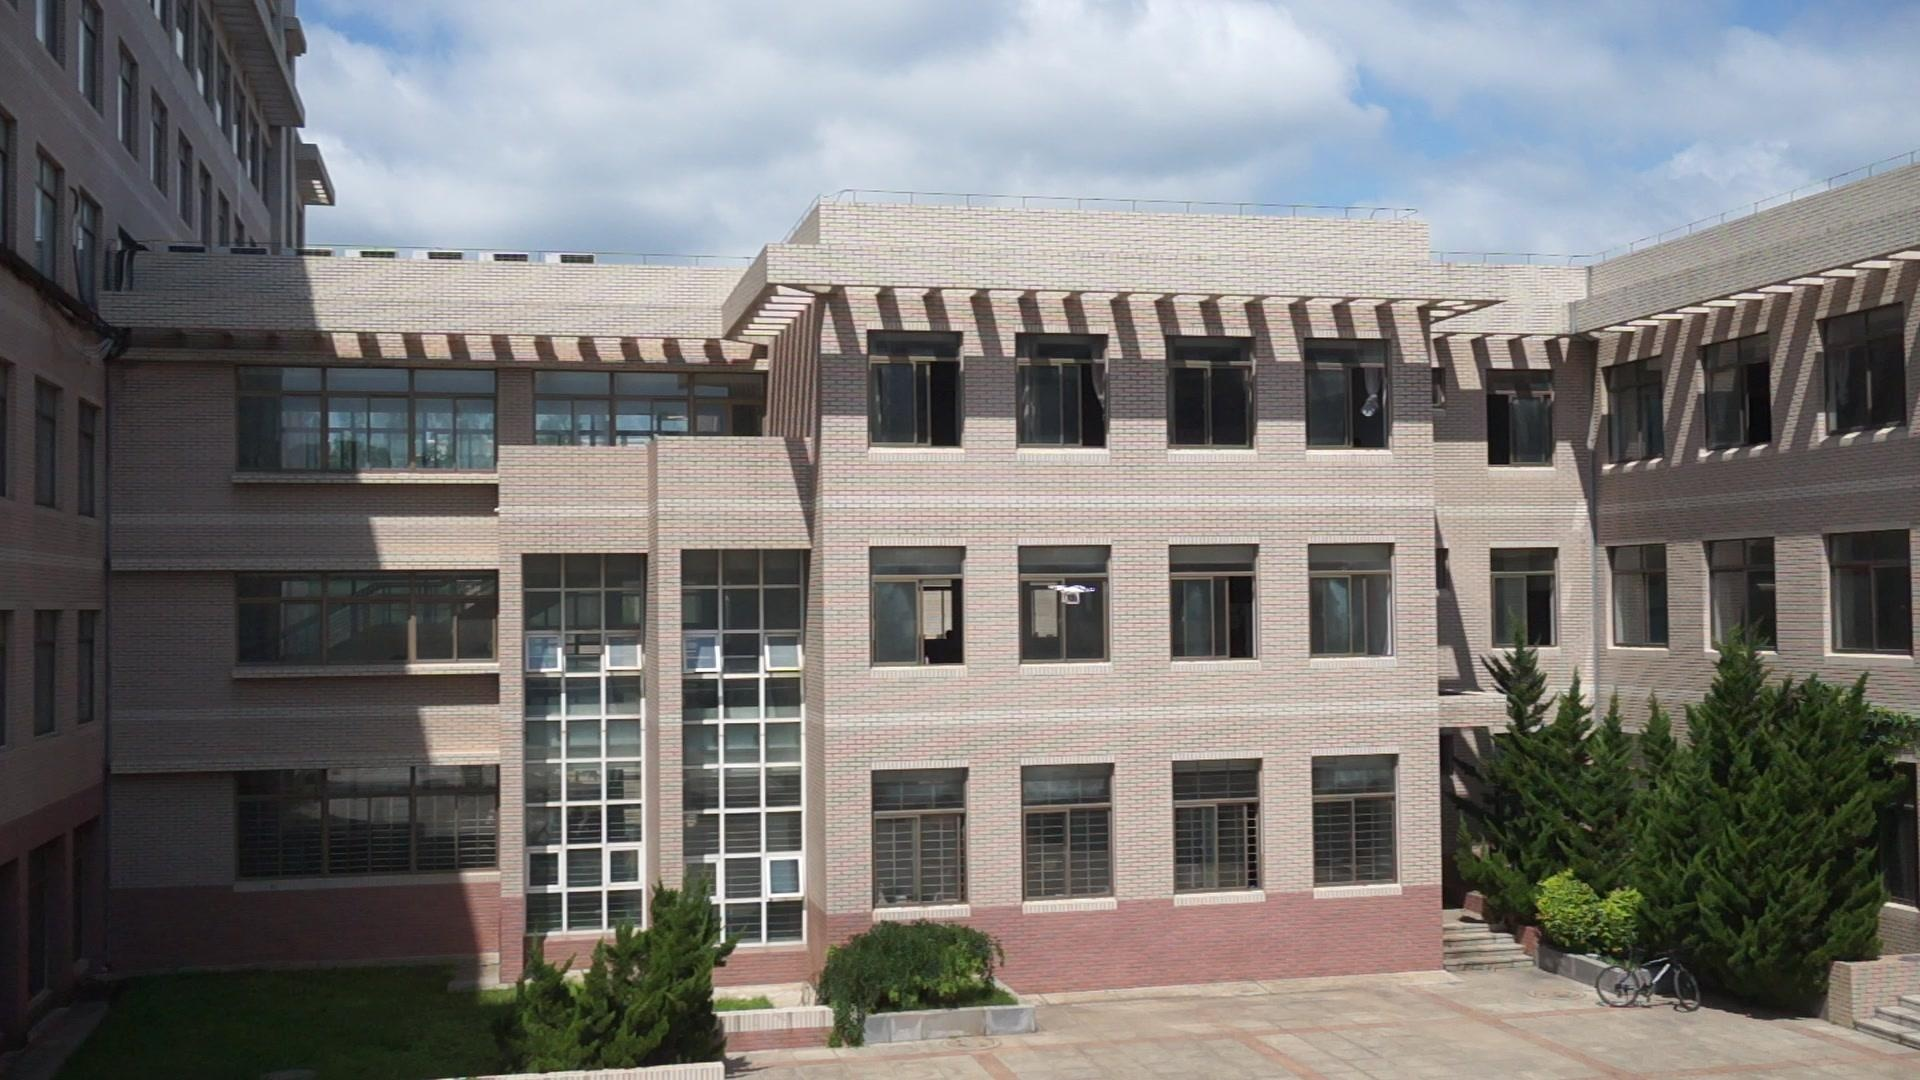UAV: (1048, 585, 1096, 605)
